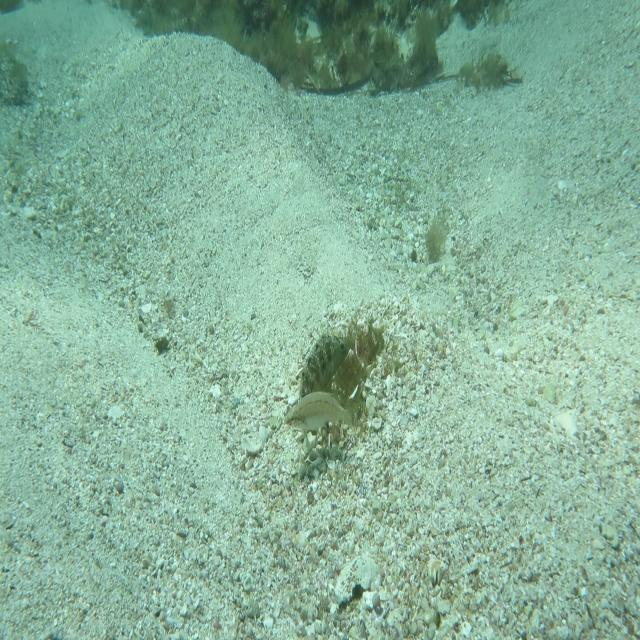BEND: (295, 323, 355, 432)
female: (281, 391, 363, 440)
nest: (290, 309, 390, 447)
vegetation: (134, 0, 490, 33), (235, 34, 440, 86), (423, 208, 448, 264)
